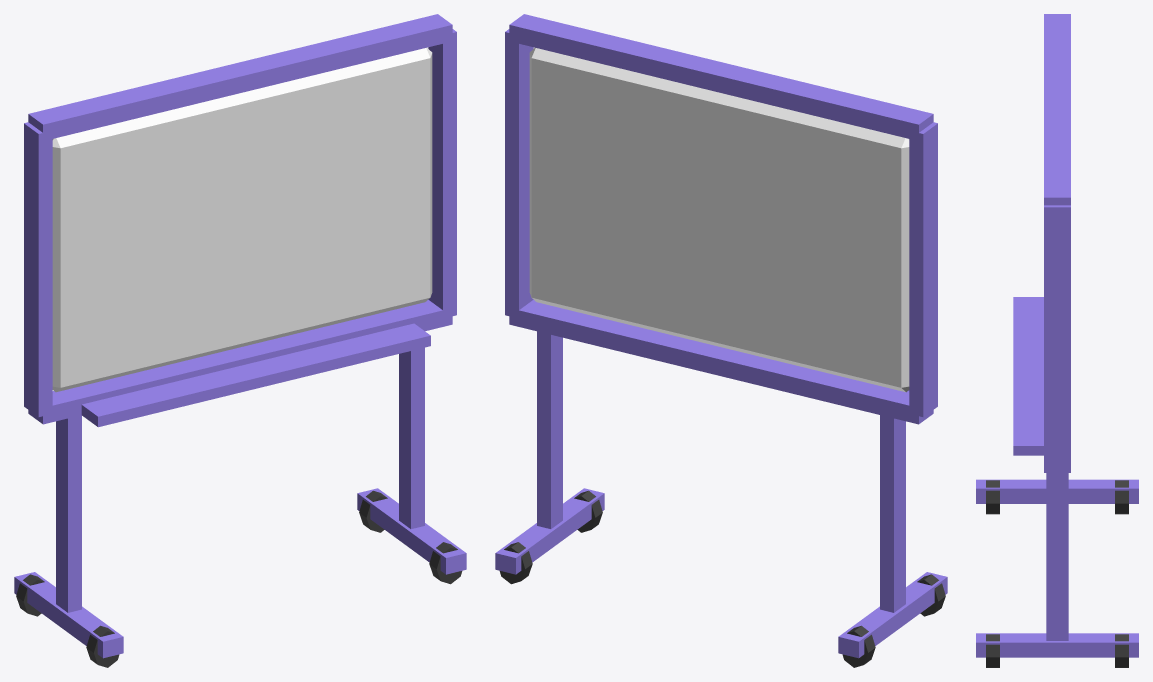
The picture shows the model from 3 angles, left to right: view 1: azimuth 30°, elevation 25°; view 2: azimuth 150°, elevation 25°; view 3: azimuth 270°, elevation 25°; orthographic projection. The views are drawn at different scales.
Visible parts, largest first — view 1: Writing surface, Frame rail.001, Marker ledge, Frame rail, Frame upright, Frame upright.001, Stand, Stand.001, Caster beam, Caster beam.001; view 2: Writing surface, Frame rail.001, Frame rail, Frame upright, Frame upright.001, Stand.001, Stand, Caster beam, Caster beam.001; view 3: Frame upright.001, Frame rail.001, Marker ledge, Stand.001, Caster beam.001, Caster beam, Wheel, Wheel.001, Wheel.002, Wheel.003.
Boxes of the visible parts, x1,y1,x2,y2 form: Writing surface: (52, 47, 432, 392); Frame rail.001: (28, 14, 452, 141); Marker ledge: (81, 323, 430, 427); Frame rail: (28, 299, 452, 424); Frame upright: (24, 122, 52, 417); Frame upright.001: (428, 29, 456, 318); Stand: (56, 415, 81, 612); Stand.001: (399, 347, 424, 528); Caster beam: (14, 572, 123, 658); Caster beam.001: (357, 488, 466, 574); Writing surface: (529, 47, 909, 392); Frame rail.001: (509, 14, 933, 141); Frame rail: (509, 299, 933, 424); Frame upright: (909, 122, 937, 417); Frame upright.001: (505, 29, 533, 318); Stand.001: (537, 331, 562, 528); Stand: (880, 415, 905, 612); Caster beam: (838, 572, 947, 658); Caster beam.001: (495, 488, 604, 574); Frame upright.001: (1044, 205, 1070, 467); Frame rail.001: (1044, 14, 1070, 205); Marker ledge: (1013, 297, 1043, 455); Stand.001: (1046, 473, 1068, 640); Caster beam.001: (976, 633, 1138, 657); Caster beam: (976, 479, 1138, 503); Wheel: (986, 480, 999, 514); Wheel.001: (1115, 480, 1128, 514); Wheel.002: (986, 634, 999, 667); Wheel.003: (1115, 634, 1128, 667).
Size of the model in its own units: 1.31 by 1.58 by 0.48.
Materials: 1 (1 with a texture image).
